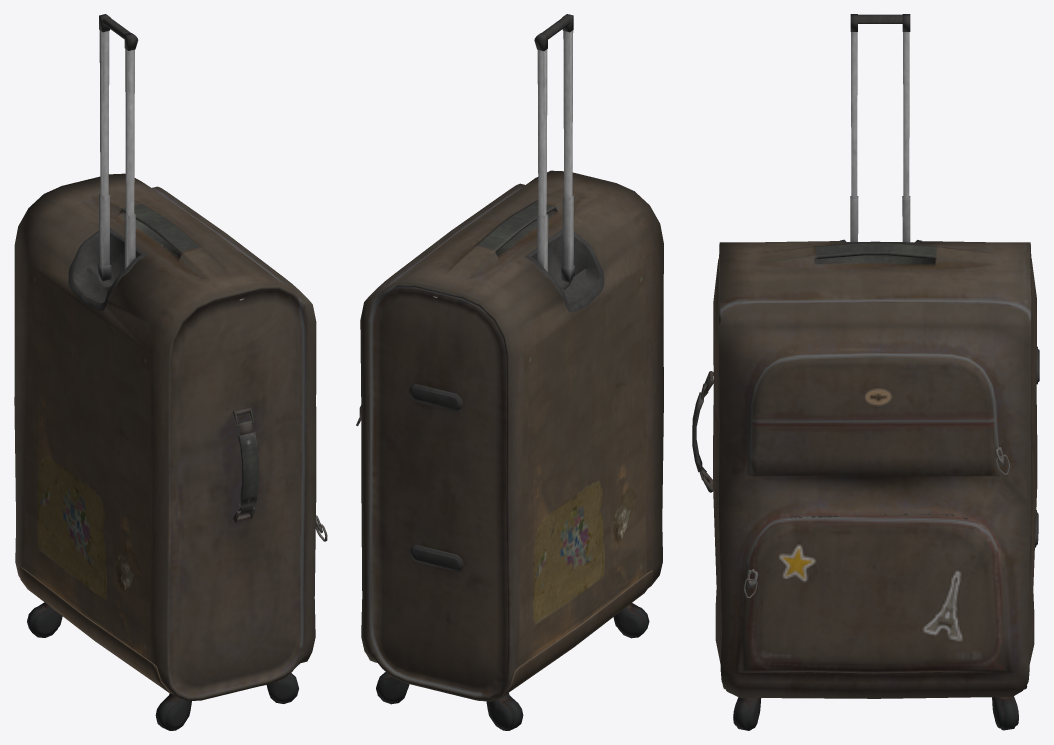
The model's file is luggage.glb.
3 renders of one model, left to right at view 1: azimuth 30°, elevation 25°; view 2: azimuth 150°, elevation 25°; view 3: azimuth 270°, elevation 25°, orthographic.
Parts seen in each view (by area): view 1: Cylinder.001; view 2: Cylinder.001; view 3: Cylinder.001.
Boxes of the visible parts, <box> form: Cylinder.001: <box>14,14,327,730</box>; Cylinder.001: <box>356,14,663,730</box>; Cylinder.001: <box>692,14,1039,730</box>.
Bounding box in the file's own units: 1.15 × 4.05 × 1.92.
Materials: 1 (1 with a texture image).
